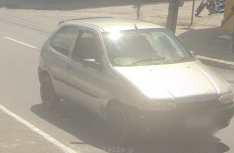car: (36, 17, 231, 144)
